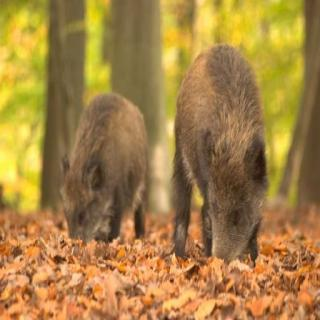Pig: (163, 29, 276, 286), (40, 79, 152, 254)
